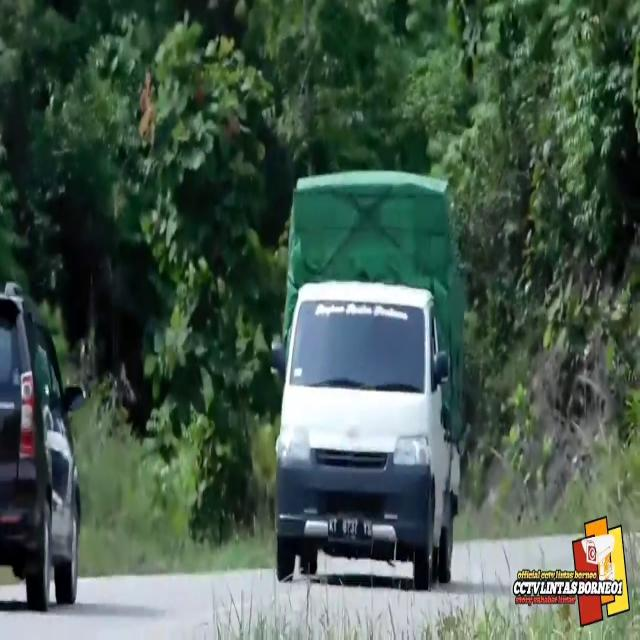Golongan IVB: (271, 282, 462, 593)
